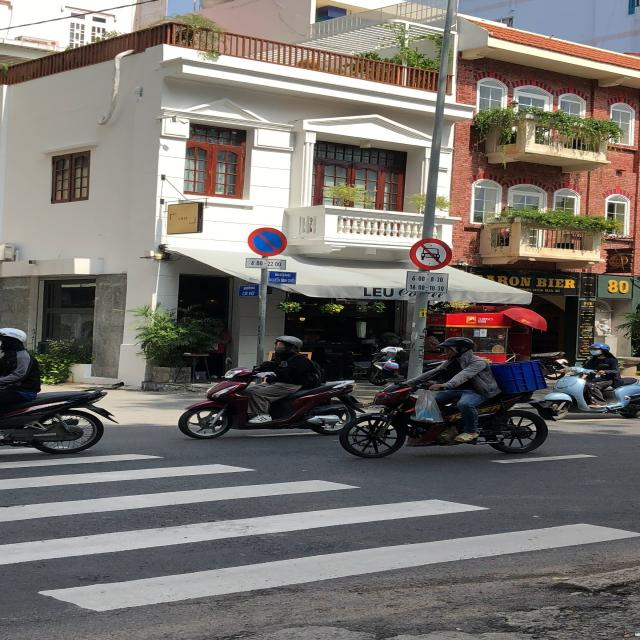Bien bao cam do xe: (240, 222, 299, 258)
Bien bao cam xe oto: (398, 235, 462, 269)
